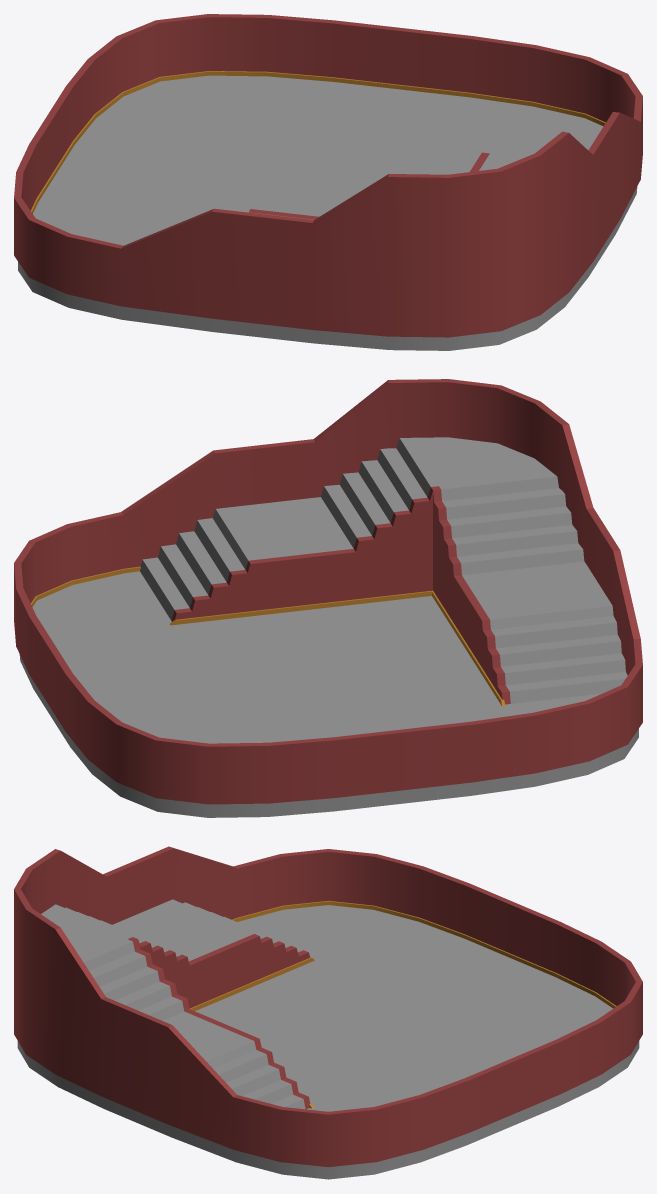
File: weiqiang5.fbx
3 renders of one model, top to bottom at view 1: azimuth 30°, elevation 25°; view 2: azimuth 150°, elevation 25°; view 3: azimuth 270°, elevation 25°, orthographic. The views are drawn at different scales.
Visible parts, largest first — view 1: RoundedSquare-Wall, RoundedSquare-Ground.001, RoundedSquare-Sill.002, RoundedSquare-Stairs.002; view 2: RoundedSquare-Wall, RoundedSquare-Ground.001, RoundedSquare-Stairs.002, RoundedSquare-WallStairs, RoundedSquare-StairsSill.002; view 3: RoundedSquare-Wall, RoundedSquare-Ground.001, RoundedSquare-Stairs.002, RoundedSquare-WallStairs, RoundedSquare-Sill.002, RoundedSquare-StairsSill.002.
Part boxes in pixels (x1,y1,x2,y2): RoundedSquare-Wall: [14, 14, 642, 337]; RoundedSquare-Ground.001: [18, 75, 637, 350]; RoundedSquare-Sill.002: [31, 71, 605, 213]; RoundedSquare-Stairs.002: [248, 153, 524, 219]; RoundedSquare-Wall: [14, 379, 642, 804]; RoundedSquare-Ground.001: [19, 571, 638, 817]; RoundedSquare-Stairs.002: [140, 437, 627, 703]; RoundedSquare-WallStairs: [171, 486, 510, 704]; RoundedSquare-StairsSill.002: [169, 590, 505, 706]; RoundedSquare-Wall: [14, 846, 642, 1167]; RoundedSquare-Ground.001: [17, 905, 639, 1179]; RoundedSquare-Stairs.002: [41, 899, 305, 1109]; RoundedSquare-WallStairs: [128, 934, 310, 1109]; RoundedSquare-Sill.002: [232, 900, 616, 1008]; RoundedSquare-StairsSill.002: [190, 957, 314, 1108].
Size of what is drawn, in the model's own units: 3712 by 1035 by 3712.
